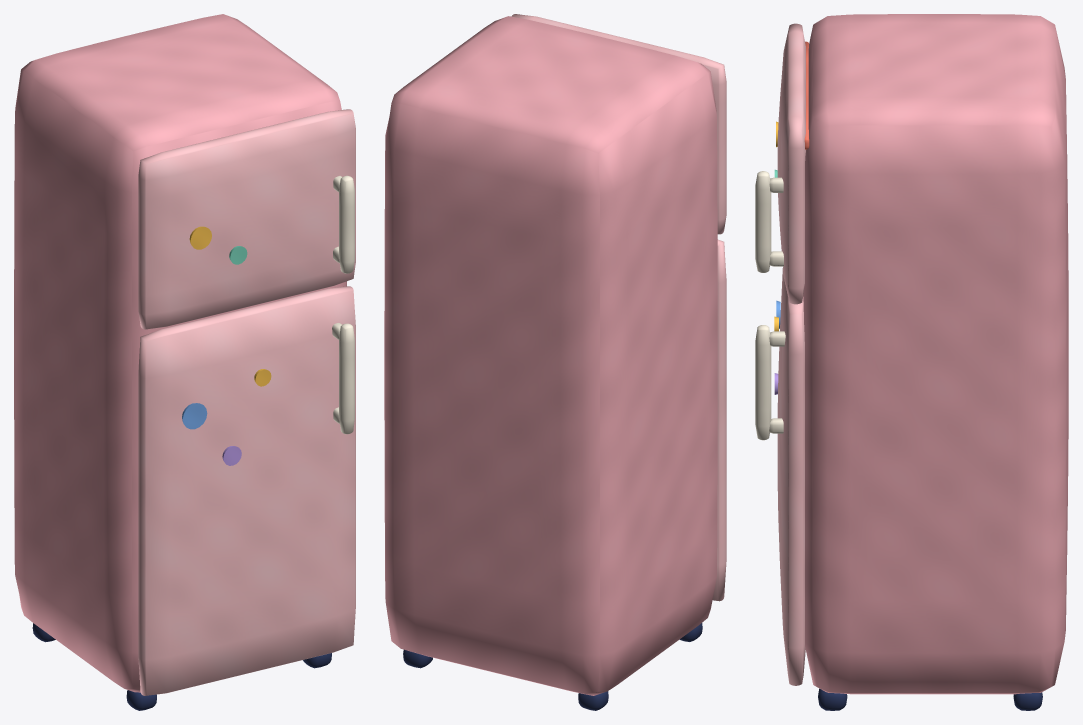
The model's file is fridge.glb.
3 views of the same model, side by side, from view 1: azimuth 30°, elevation 25°; view 2: azimuth 150°, elevation 25°; view 3: azimuth 270°, elevation 25° (orthographic). The views are drawn at different scales.
Visible parts, largest first — view 1: FridgeCartoon_Doors, FridgeCartoon_Body, FridgeCartoon_Deco; view 2: FridgeCartoon_Body, FridgeCartoon_Doors; view 3: FridgeCartoon_Body, FridgeCartoon_Doors, FridgeCartoon_Deco.
Boxes of the visible parts, x1=… form: FridgeCartoon_Doors: x1=138, y1=109, x2=355, y2=695; FridgeCartoon_Body: x1=14, y1=14, x2=346, y2=710; FridgeCartoon_Deco: x1=182, y1=175, x2=354, y2=465; FridgeCartoon_Body: x1=384, y1=16, x2=717, y2=710; FridgeCartoon_Doors: x1=511, y1=14, x2=726, y2=601; FridgeCartoon_Body: x1=803, y1=14, x2=1068, y2=710; FridgeCartoon_Doors: x1=777, y1=23, x2=805, y2=685; FridgeCartoon_Deco: x1=755, y1=41, x2=809, y2=440.
Size of what is drawn, in the model's own units: 0.7736 by 1.81 by 0.8497.
9 materials, 9 textured.
